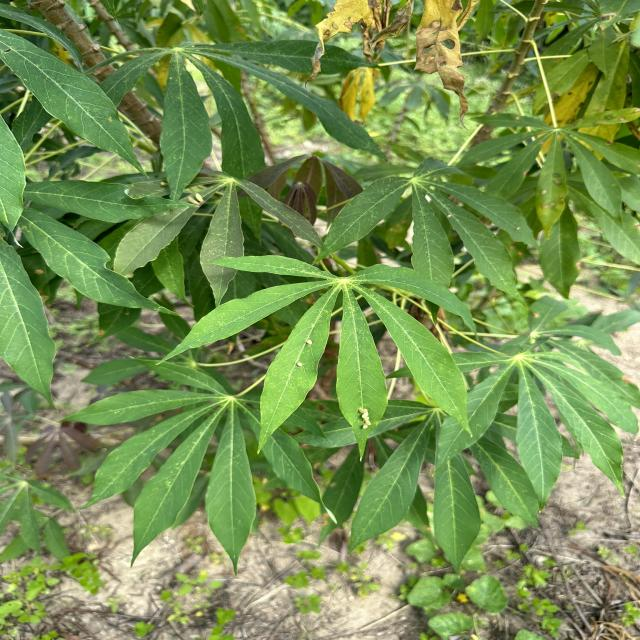Mosaico: (304, 3, 386, 127), (391, 0, 484, 109)
Mosca: (354, 399, 377, 437), (287, 359, 312, 378), (185, 192, 206, 211), (30, 266, 50, 282), (439, 205, 455, 224), (156, 176, 173, 192), (301, 336, 320, 350), (511, 221, 525, 236), (427, 183, 437, 199)
